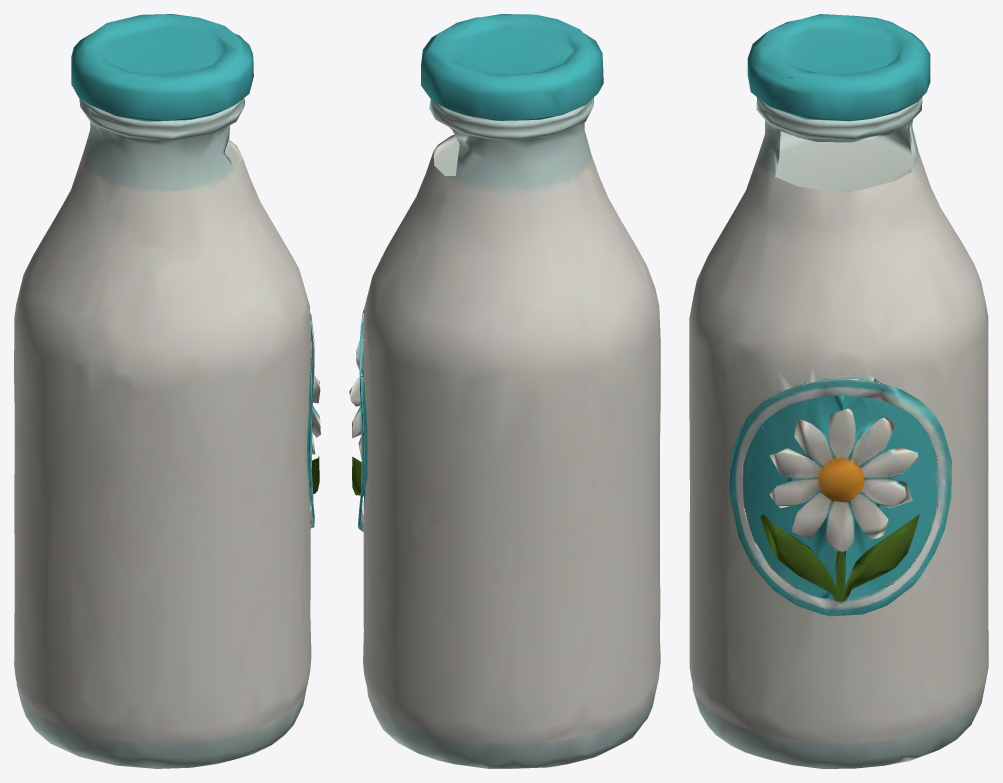
File: SM_Kitchen_MilkBottle.glb
The picture shows the model from 3 angles, left to right: view 1: azimuth 30°, elevation 25°; view 2: azimuth 150°, elevation 25°; view 3: azimuth 270°, elevation 25°; orthographic projection.
Visible parts, largest first — view 1: tripo_node_34c1d71e-507f-46ba-8171-d1b7093592ad; view 2: tripo_node_34c1d71e-507f-46ba-8171-d1b7093592ad; view 3: tripo_node_34c1d71e-507f-46ba-8171-d1b7093592ad.
Part boxes in pixels (box(x1,y1,x2,y2)): tripo_node_34c1d71e-507f-46ba-8171-d1b7093592ad: box(14, 14, 320, 768); tripo_node_34c1d71e-507f-46ba-8171-d1b7093592ad: box(349, 14, 660, 768); tripo_node_34c1d71e-507f-46ba-8171-d1b7093592ad: box(689, 14, 988, 768).
Bounding box in the file's own units: 0.4192 × 1 × 0.4062.
Materials: 1 (1 with a texture image).
